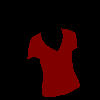t-shirt: (26, 28, 80, 97)
